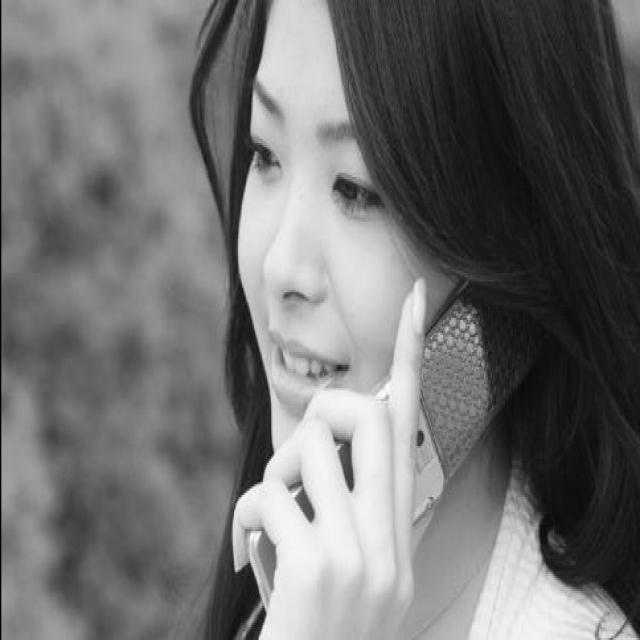phone: (232, 156, 552, 612)
